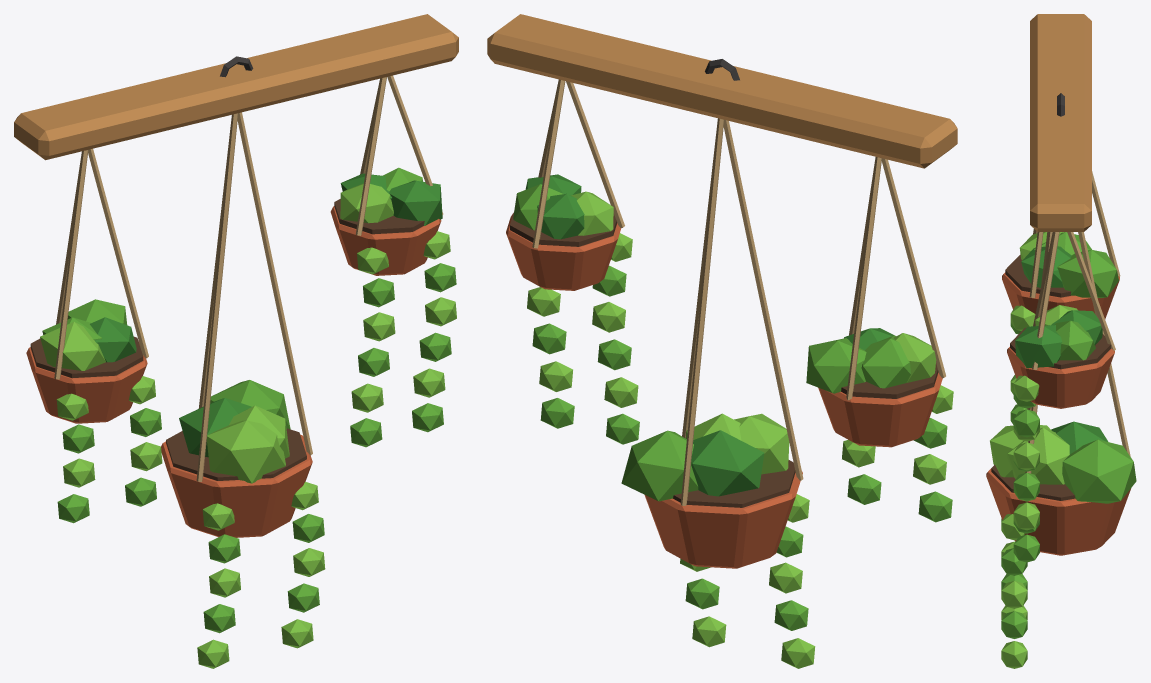
File: hanging_planter_cluster.glb
3 views of the same model, side by side, from view 1: azimuth 30°, elevation 25°; view 2: azimuth 150°, elevation 25°; view 3: azimuth 270°, elevation 25° (orthographic). The views are drawn at different scales.
Visible parts, largest first — view 1: part_planter_1, hanging_planter_cluster, part_planter_2, part_planter_0; view 2: part_planter_1, hanging_planter_cluster, part_planter_0, part_planter_2; view 3: part_planter_1, hanging_planter_cluster, part_planter_2, part_planter_0.
Boxes of the visible parts, x1,y1,x2,y2 form: part_planter_1: (161, 112, 325, 668); hanging_planter_cluster: (14, 14, 458, 160); part_planter_2: (330, 75, 456, 447); part_planter_0: (26, 148, 162, 523); part_planter_1: (621, 118, 815, 668); hanging_planter_cluster: (487, 14, 957, 168); part_planter_0: (806, 157, 953, 522); part_planter_2: (506, 79, 639, 444); part_planter_1: (986, 232, 1136, 668); hanging_planter_cluster: (1030, 14, 1091, 231); part_planter_2: (1007, 232, 1115, 562); part_planter_0: (1002, 171, 1120, 424).
Bounding box in the file's own units: 0.9 × 1.19 × 0.2908.
